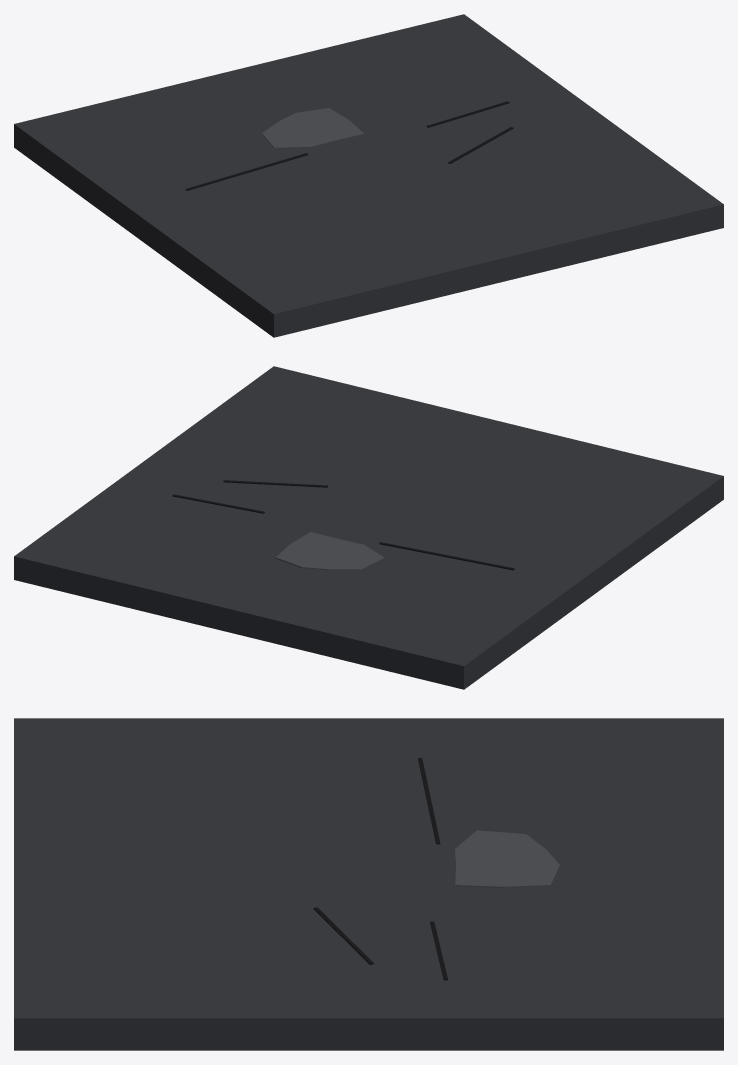
The model's file is Floor_Asphalt.fbx.
The picture shows the model from 3 angles, top to bottom: view 1: azimuth 30°, elevation 25°; view 2: azimuth 150°, elevation 25°; view 3: azimuth 270°, elevation 25°; orthographic projection. The views are drawn at different scales.
Parts seen in each view (by area): view 1: Floor_Asphalt; view 2: Floor_Asphalt; view 3: Floor_Asphalt.
Part boxes in pixels (left/top/right/bottom): Floor_Asphalt: left=14, top=14, right=723, bottom=337; Floor_Asphalt: left=14, top=366, right=723, bottom=689; Floor_Asphalt: left=14, top=718, right=723, bottom=1050.
Size of the model in its own units: 2 by 0.104 by 2.
Materials: 1 (1 with a texture image).
